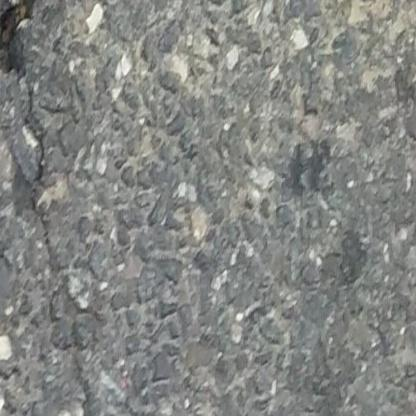Cracks: (0, 0, 45, 80)
